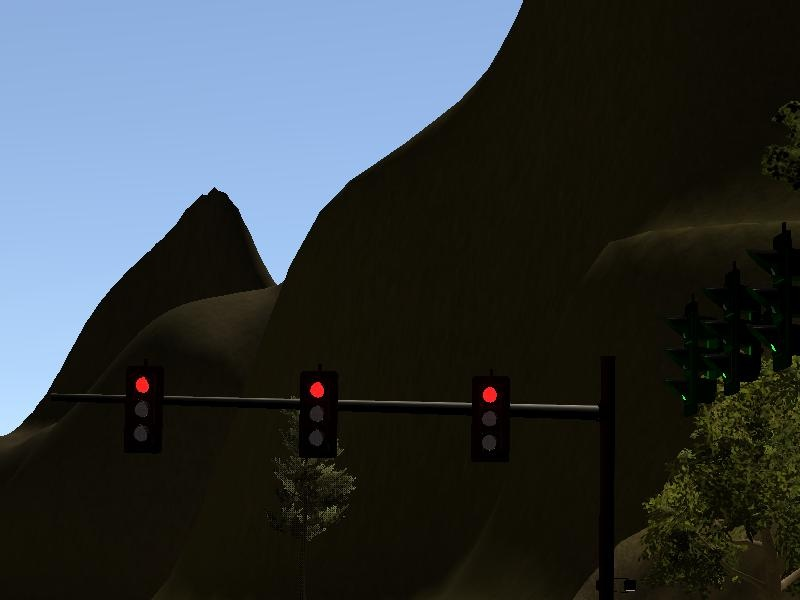red: (123, 363, 163, 449), (298, 370, 338, 456), (469, 374, 509, 460)
